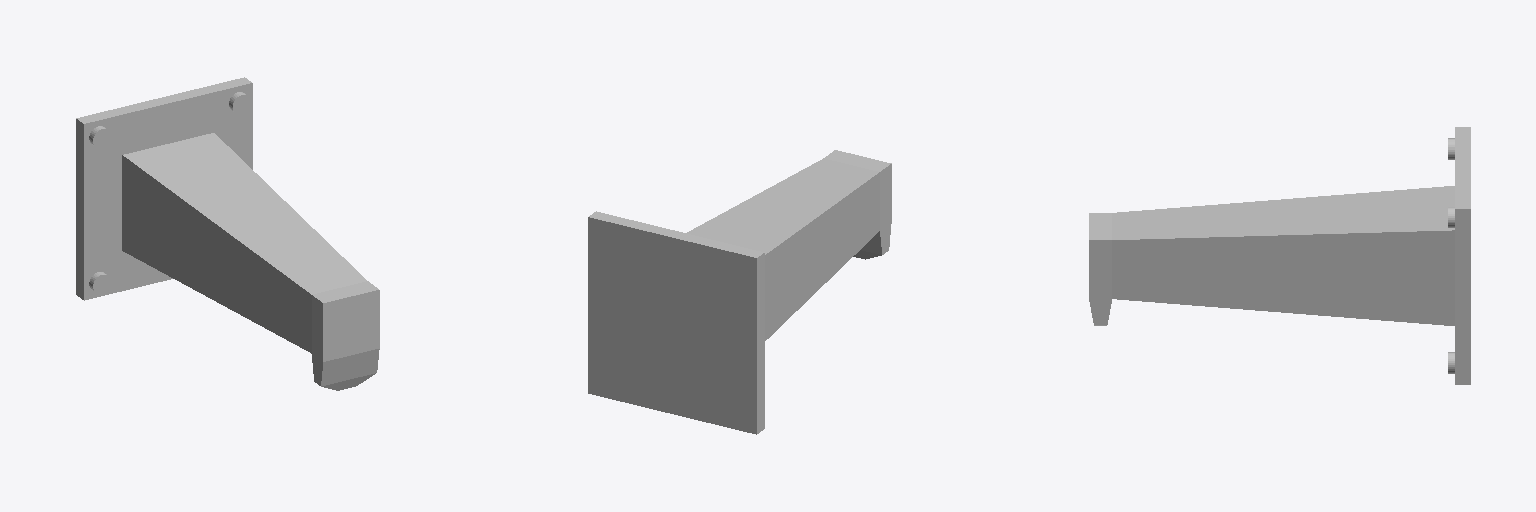
File: wall_holder.obj
3 renders of one model, left to right at view 1: azimuth 30°, elevation 25°; view 2: azimuth 150°, elevation 25°; view 3: azimuth 270°, elevation 25°, orthographic.
Visible parts, largest first — view 1: Cube, Screws; view 2: Cube; view 3: Cube.
Part boxes in pixels (x1,y1,x2,y2): Cube: (76, 77, 379, 390); Screws: (89, 92, 250, 293); Cube: (588, 150, 891, 434); Cube: (1089, 127, 1470, 384).
Bounding box in the file's own units: 0.2 × 0.2 × 0.3921.